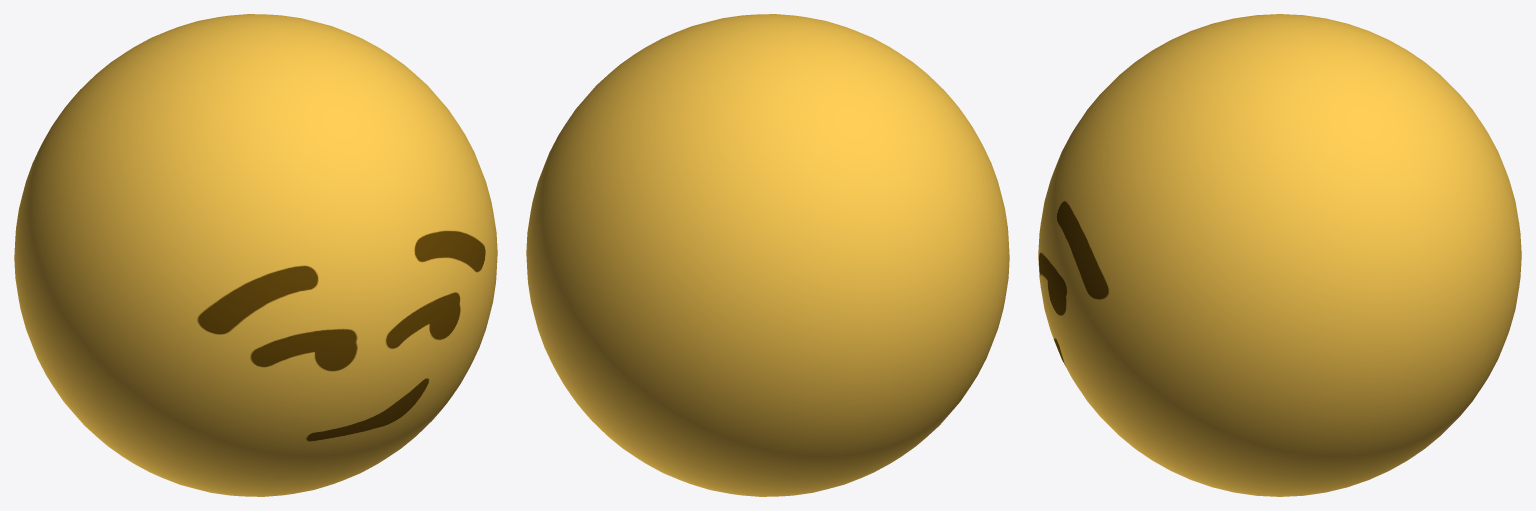
The model's file is REEEEEEEEE.fbx.
3 views of the same model, side by side, from view 1: azimuth 30°, elevation 25°; view 2: azimuth 150°, elevation 25°; view 3: azimuth 270°, elevation 25° (orthographic).
Parts seen in each view (by area): view 1: sphere; view 2: sphere; view 3: sphere.
Part boxes in pixels (<box>): sphere: <box>14,14,497,496</box>; sphere: <box>526,14,1009,496</box>; sphere: <box>1038,14,1521,496</box>.
Size of the model in its own units: 207 by 207 by 207.
